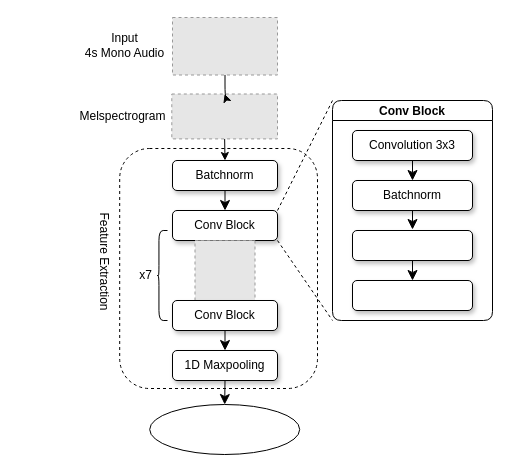
Image size: 510x472. Some labels were removed from this diagram. Grey dashed boxes stand in for pictures. The centre of each missing label's shape, as x and y in pixels:
"Maxpooling 2x2" belongs at (x=413, y=297).
"Output [Batchsize x 512]" belongs at (x=224, y=429).
"ReLU" belongs at (x=413, y=247).
